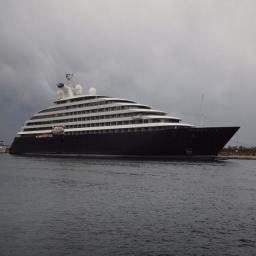cruises: (9, 65, 244, 164)
